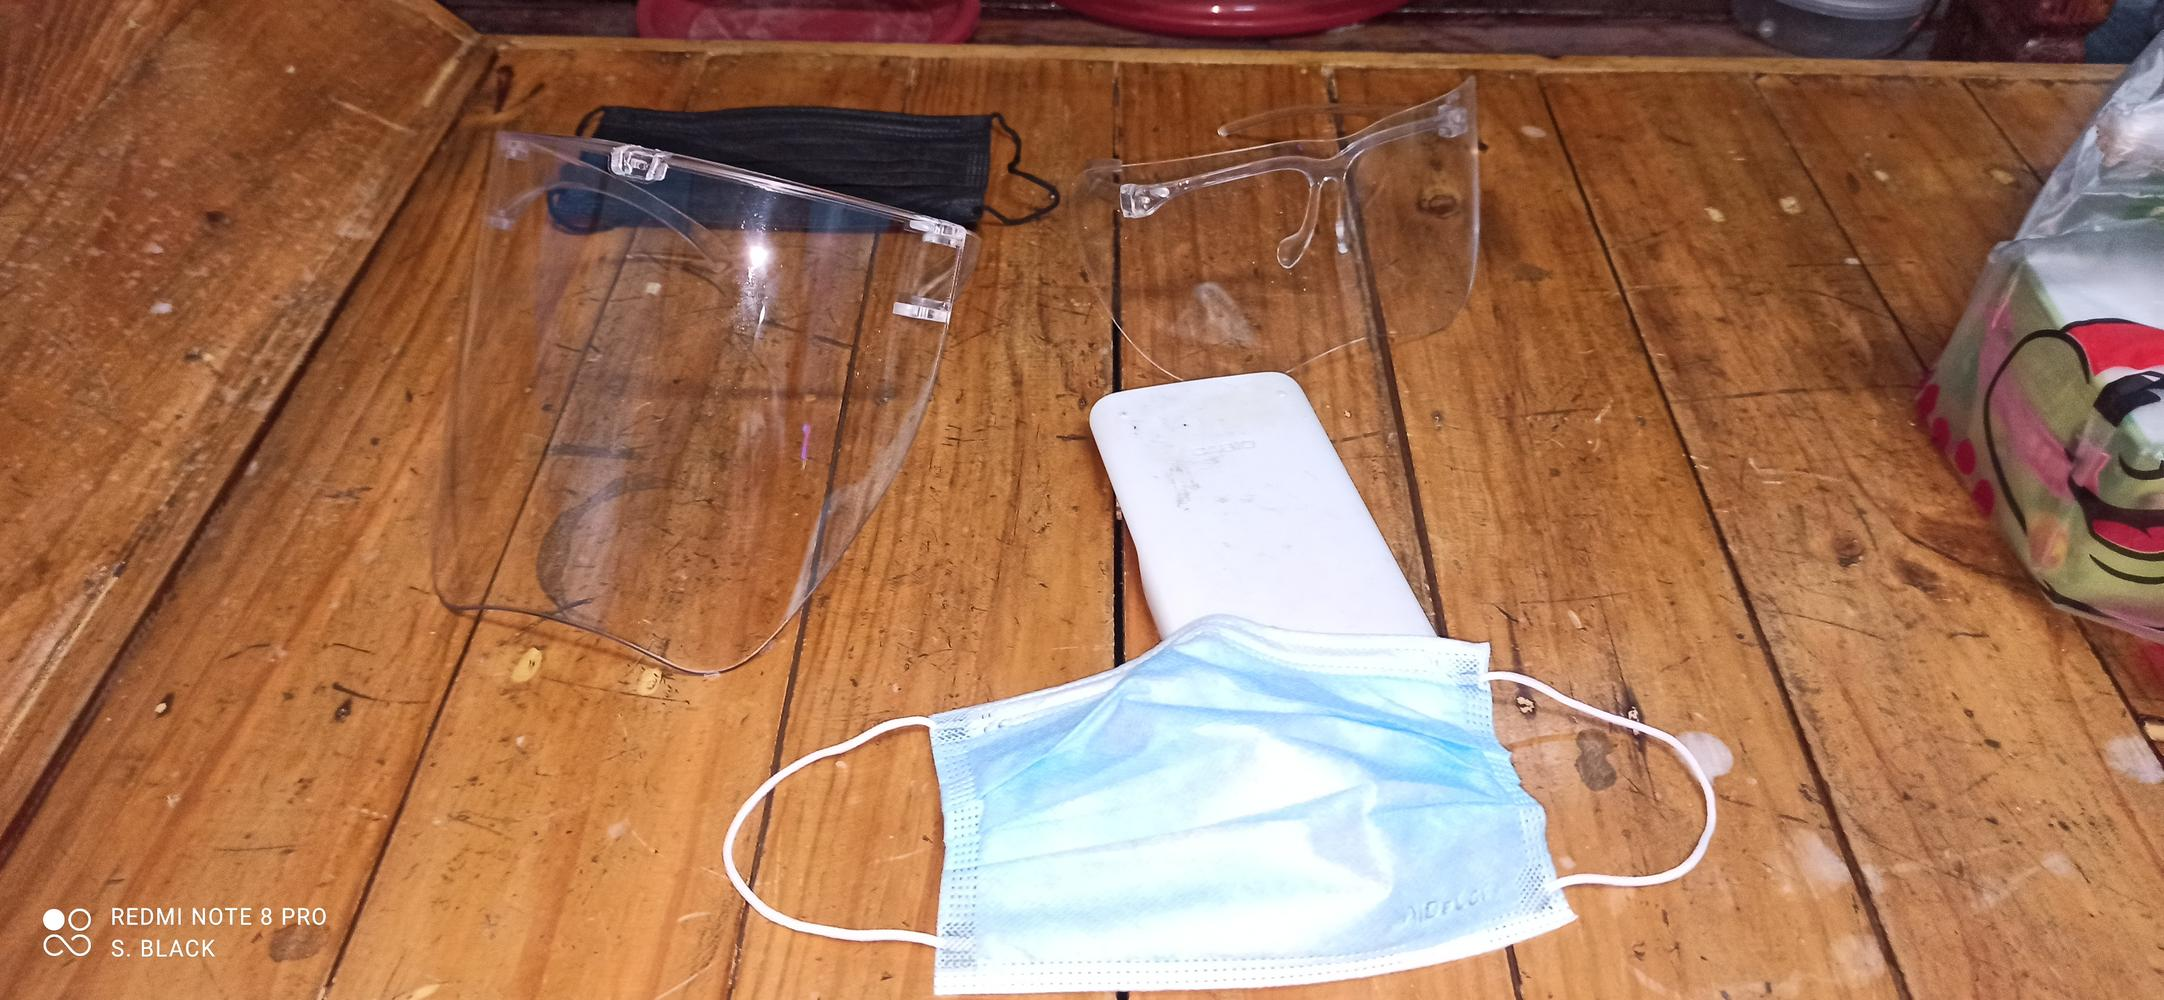Face Mask: (922, 634, 1563, 991), (570, 99, 987, 239)
Face Shield: (444, 147, 970, 673), (1080, 91, 1554, 376)
Undefined Object: (1924, 21, 2164, 634), (1080, 378, 1444, 626)
